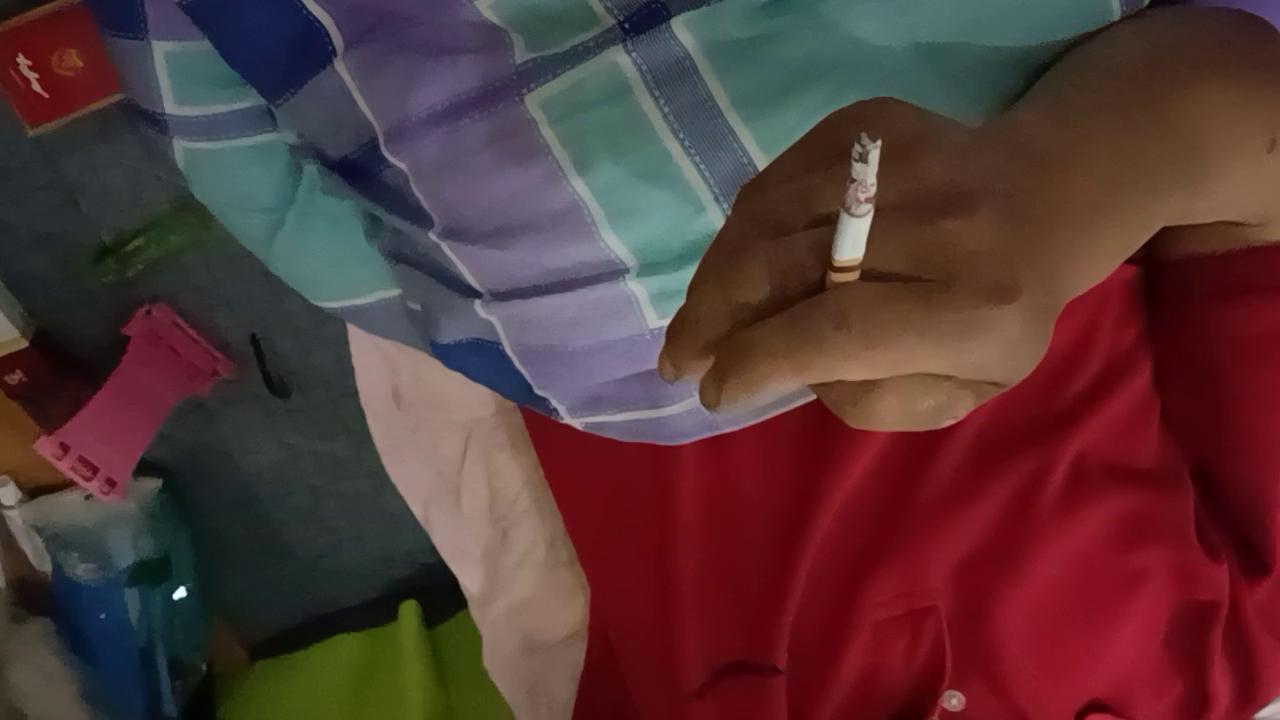smoke: (820, 129, 886, 326)
